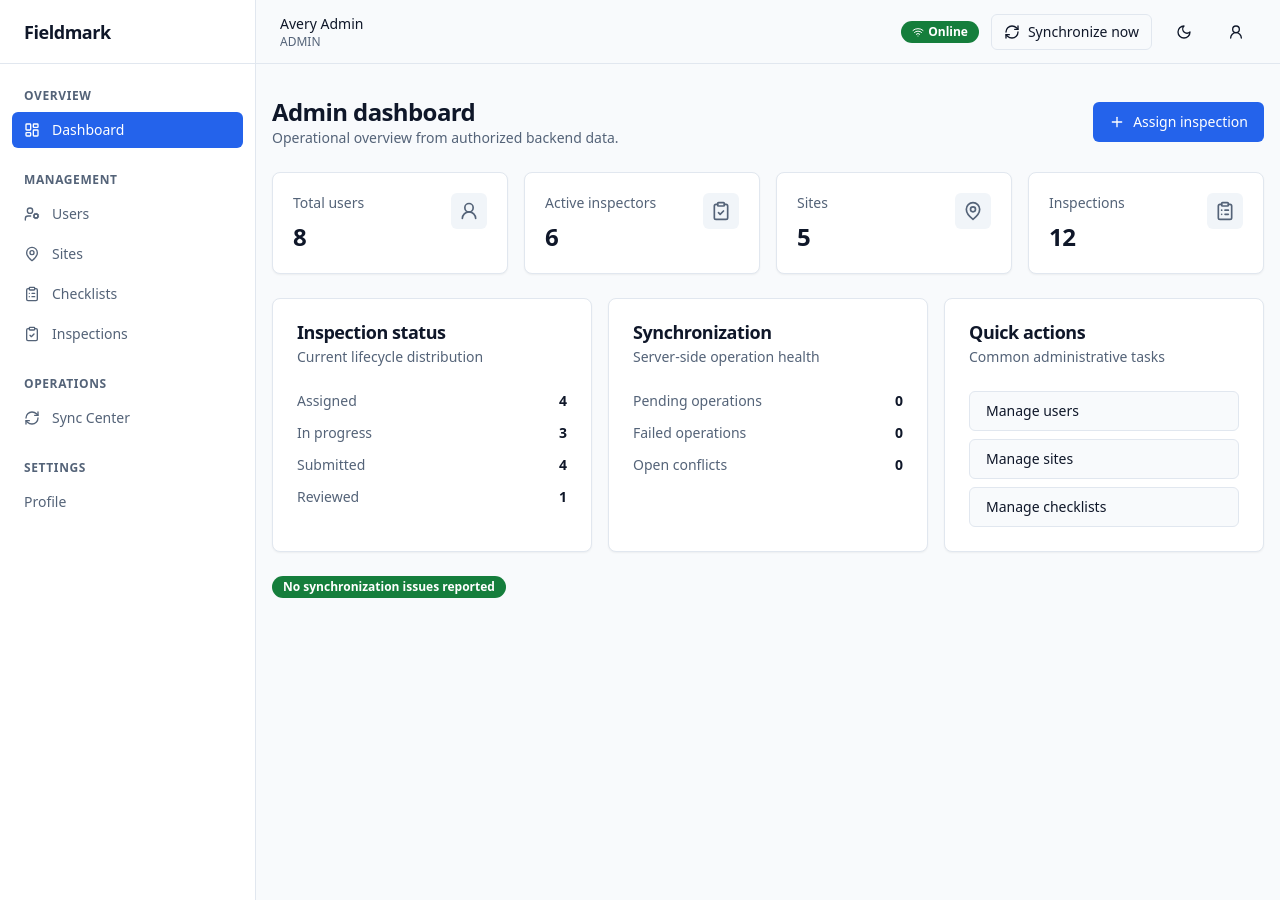
application router › shows admin navigation and protected admin pages to an administrator
The width and height of the screenshot is (1280, 900).
Expected: the heading "Admin dashboard" is shown, [272,95,475,128]
Expected: the link "Dashboard" is shown, [12,112,243,148]
What coordinates should you click on to do the following:
click the link "Users"
I would click on:
 (57, 214)
Its box is [24,204,89,223].
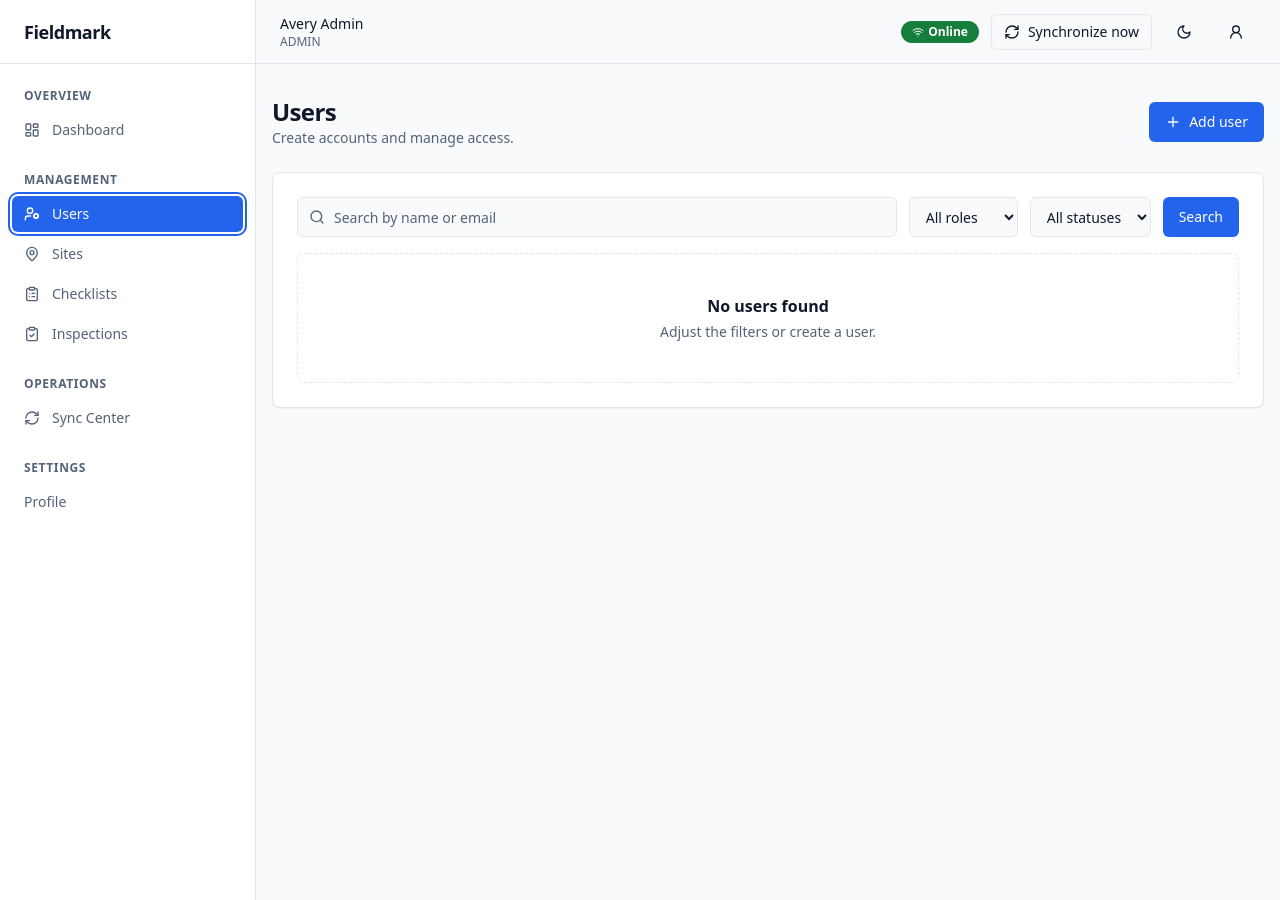
Expected: the heading "Users" is shown, [272,95,336,128]
